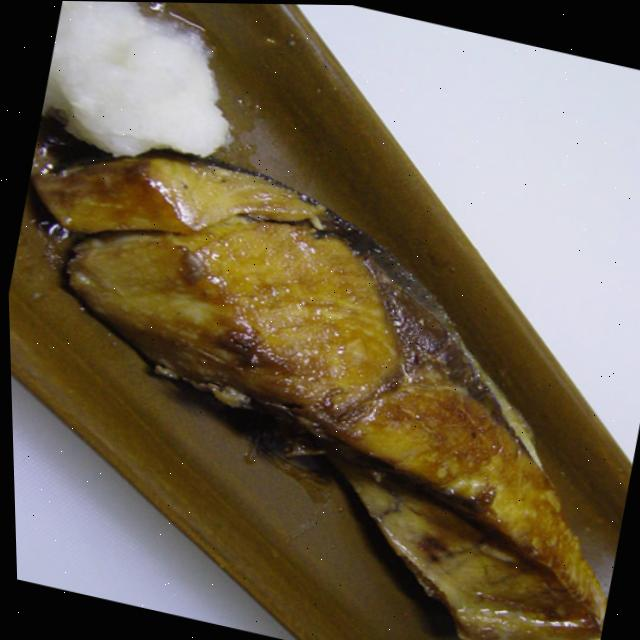熟制海鲜: (3, 110, 640, 640)
